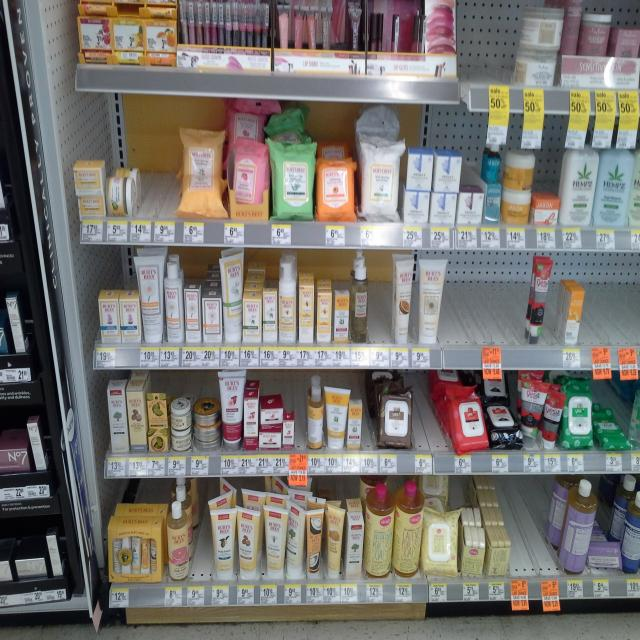void: (461, 2, 511, 114), (478, 247, 518, 375), (142, 105, 176, 248), (518, 478, 554, 607), (452, 255, 481, 372), (589, 258, 615, 385), (416, 388, 446, 476), (372, 254, 392, 370), (190, 484, 209, 604), (626, 254, 637, 380)
